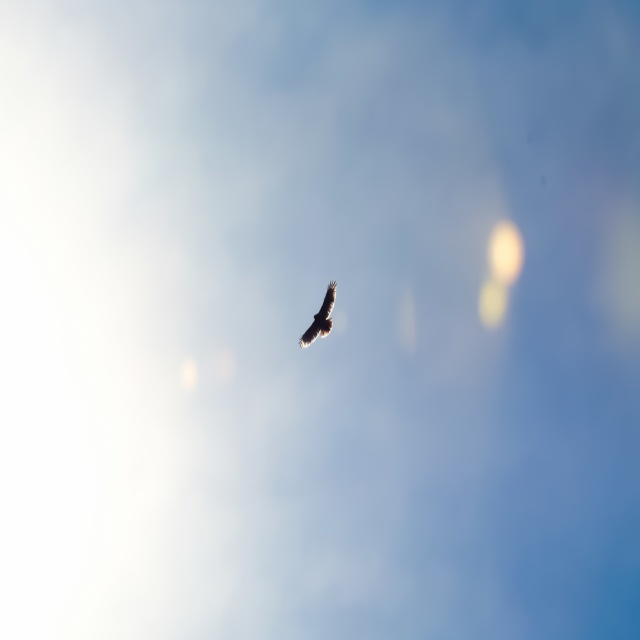Eagle: (299, 273, 340, 357)
